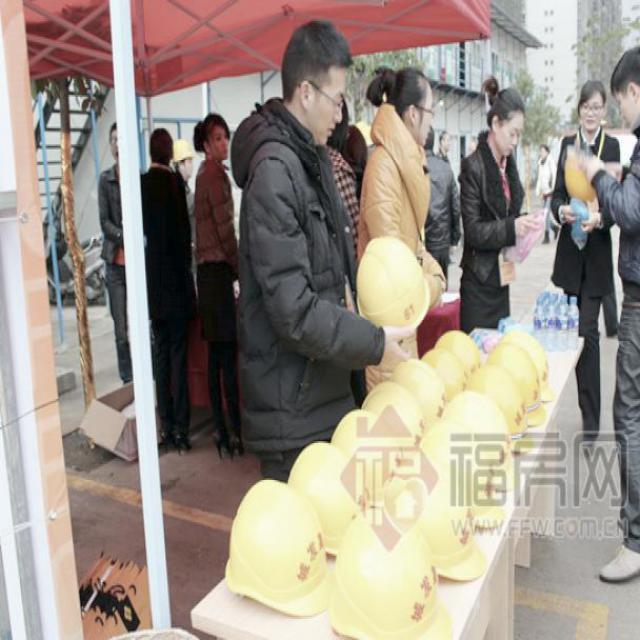helmet: (221, 464, 328, 619), (384, 457, 485, 571), (355, 506, 442, 638), (352, 216, 430, 345), (316, 401, 396, 487), (496, 312, 554, 412), (455, 394, 518, 474), (398, 349, 454, 422), (356, 376, 420, 434), (435, 316, 476, 378)
